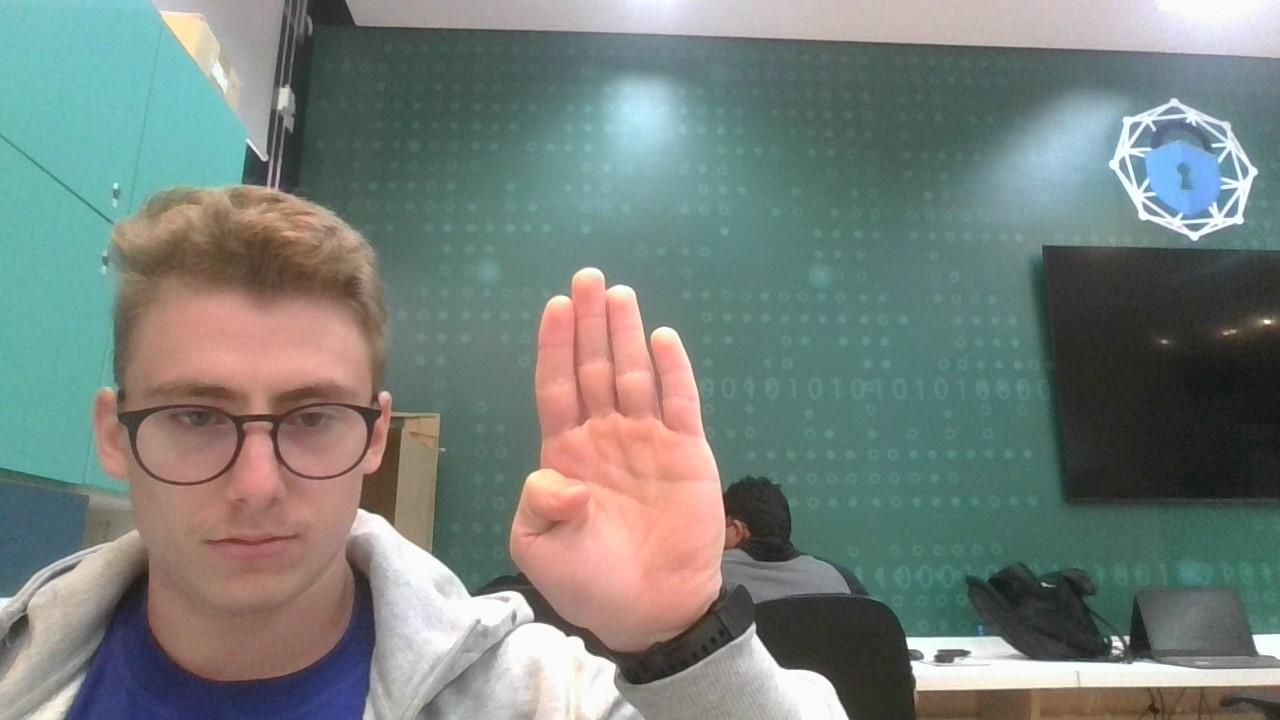B: (492, 264, 758, 650)
